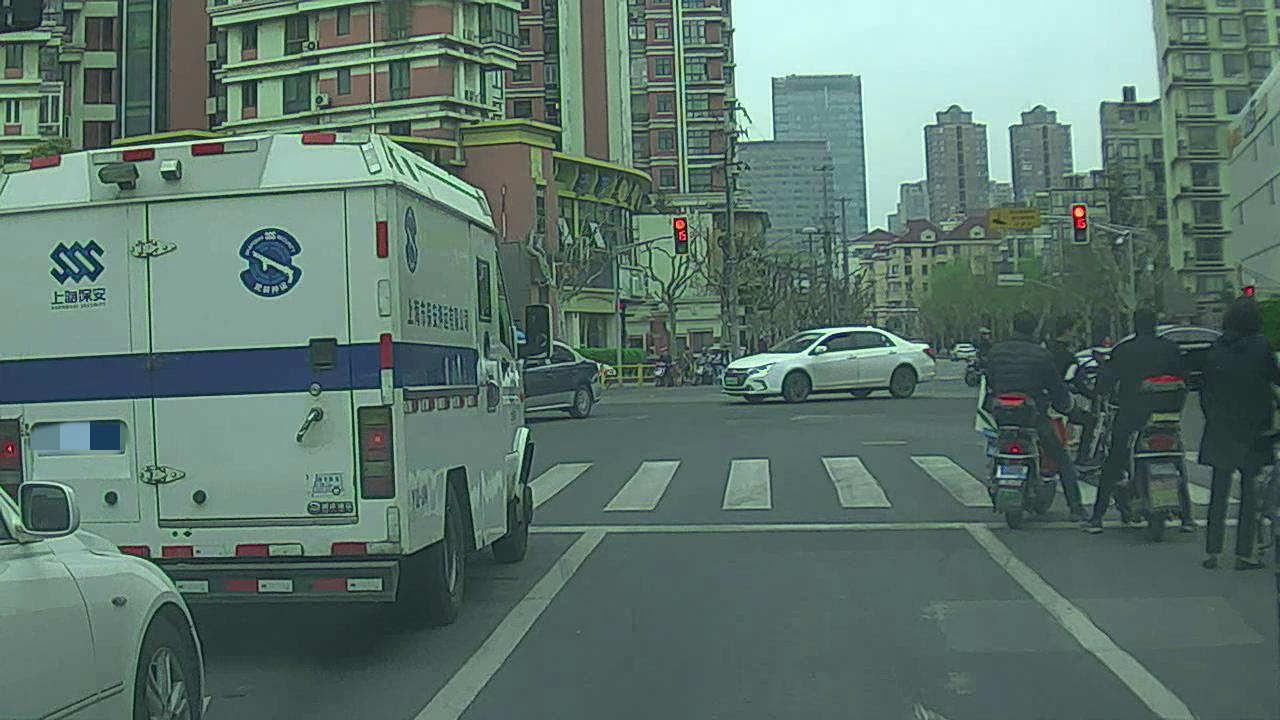traffic_light: (671, 215, 693, 260), (1069, 204, 1088, 243)
